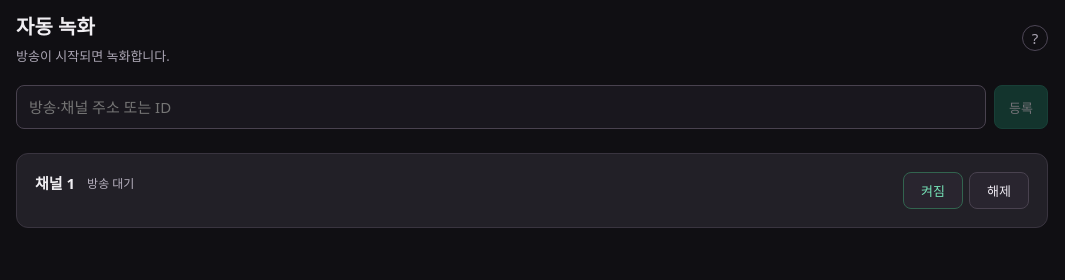
Test: automatic recording registration › protects channel identity in privacy mode and reports failed mutations
Click the button "켜짐" at [933, 190], box 903,172 -> 963,209
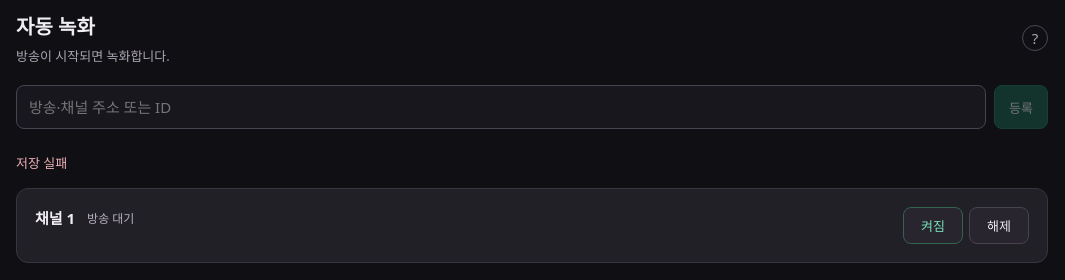
Check: the message "저장 실패" is shown, box 16,154 -> 67,172
